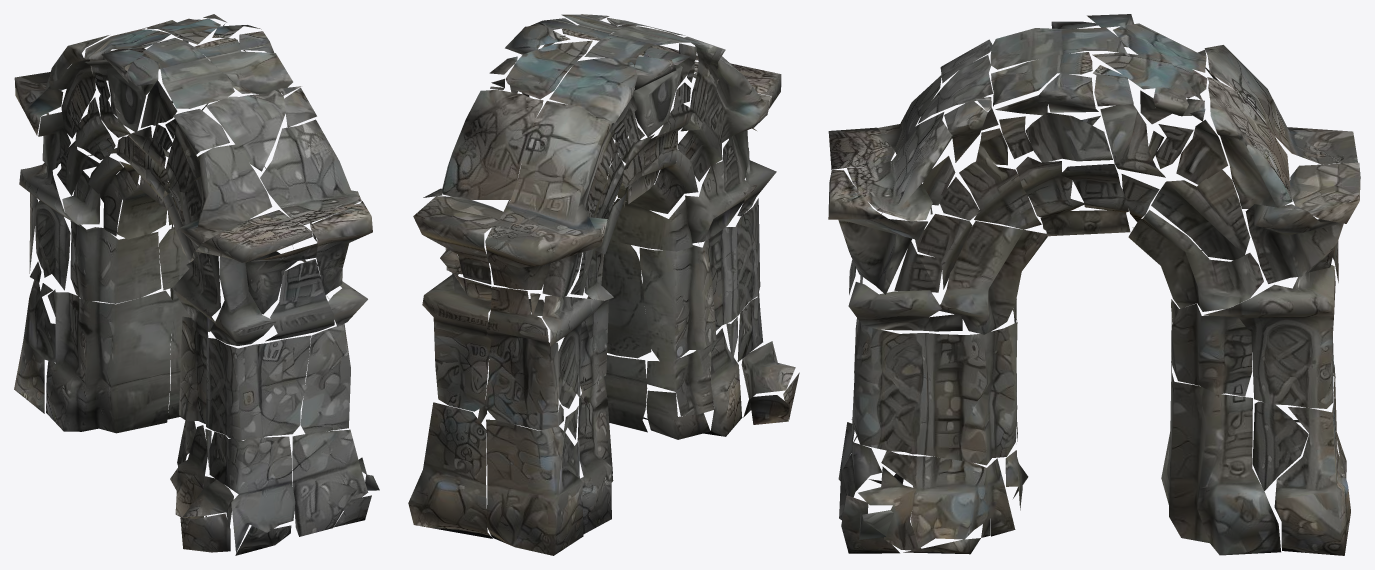
File: ruin_arch_portal_LOD3.glb
3 views of the same model, side by side, from view 1: azimuth 30°, elevation 25°; view 2: azimuth 150°, elevation 25°; view 3: azimuth 270°, elevation 25° (orthographic). The views are drawn at different scales.
Parts seen in each view (by area): view 1: tripo_node_d8a1d5da-c2f6-40ee-9562-3897e08a0c6e; view 2: tripo_node_d8a1d5da-c2f6-40ee-9562-3897e08a0c6e; view 3: tripo_node_d8a1d5da-c2f6-40ee-9562-3897e08a0c6e.
Part boxes in pixels (x1,y1,x2,y2): tripo_node_d8a1d5da-c2f6-40ee-9562-3897e08a0c6e: (14,14,379,555); tripo_node_d8a1d5da-c2f6-40ee-9562-3897e08a0c6e: (408,14,799,555); tripo_node_d8a1d5da-c2f6-40ee-9562-3897e08a0c6e: (828,14,1360,555).
Size of the model in its own units: 0.4674 by 1 by 0.9978.
Materials: 1 (1 with a texture image).
